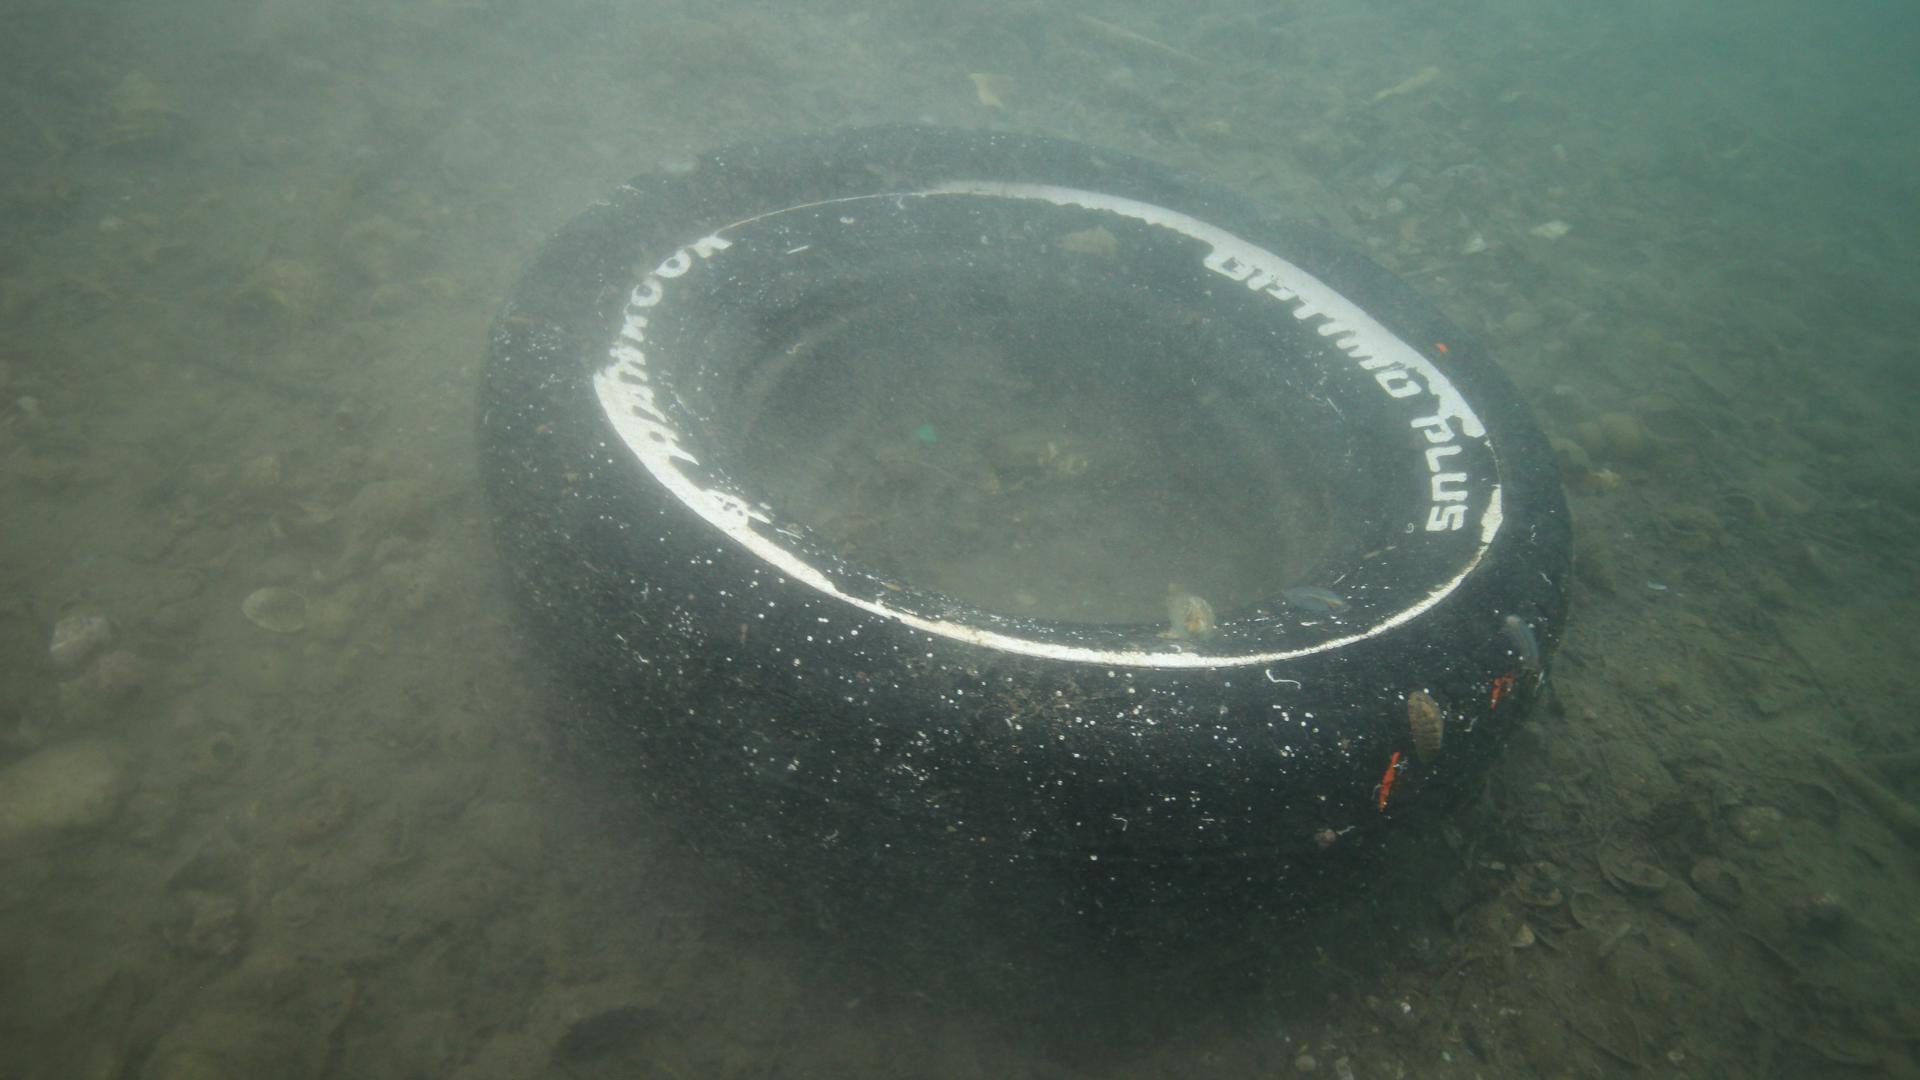tire: (469, 123, 1569, 978)
